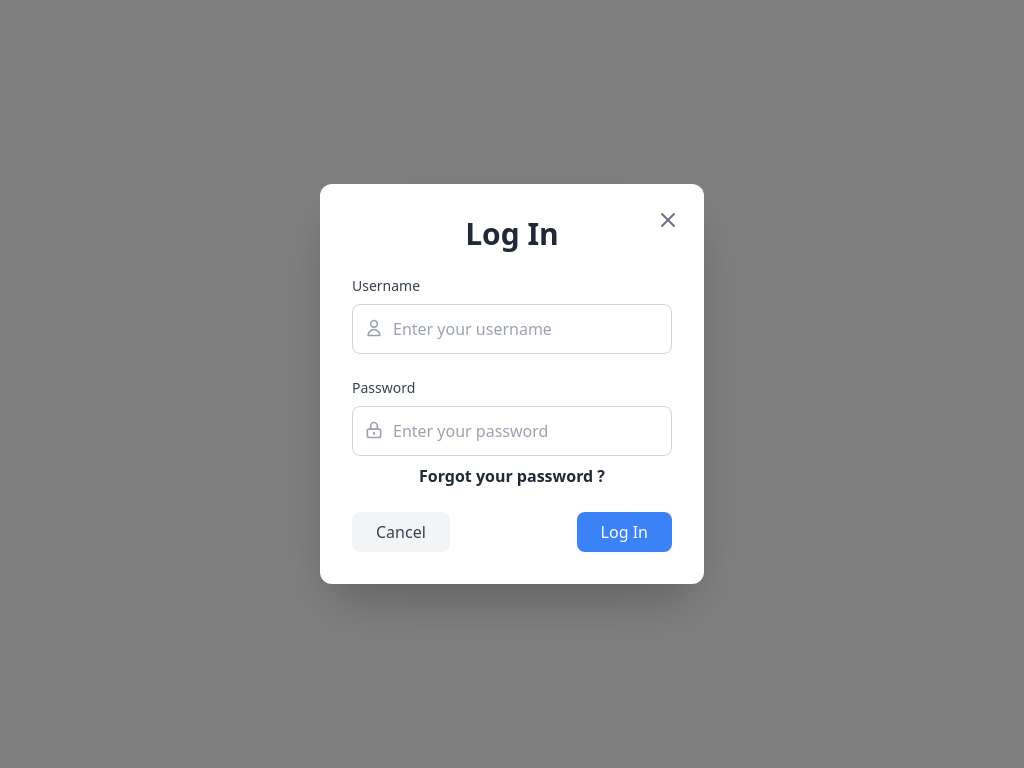
Test: LoginCard › shows error on incorrect credentials
Type "testuser" into the field labelled "Username" at (512,329), box [352, 304, 672, 354]
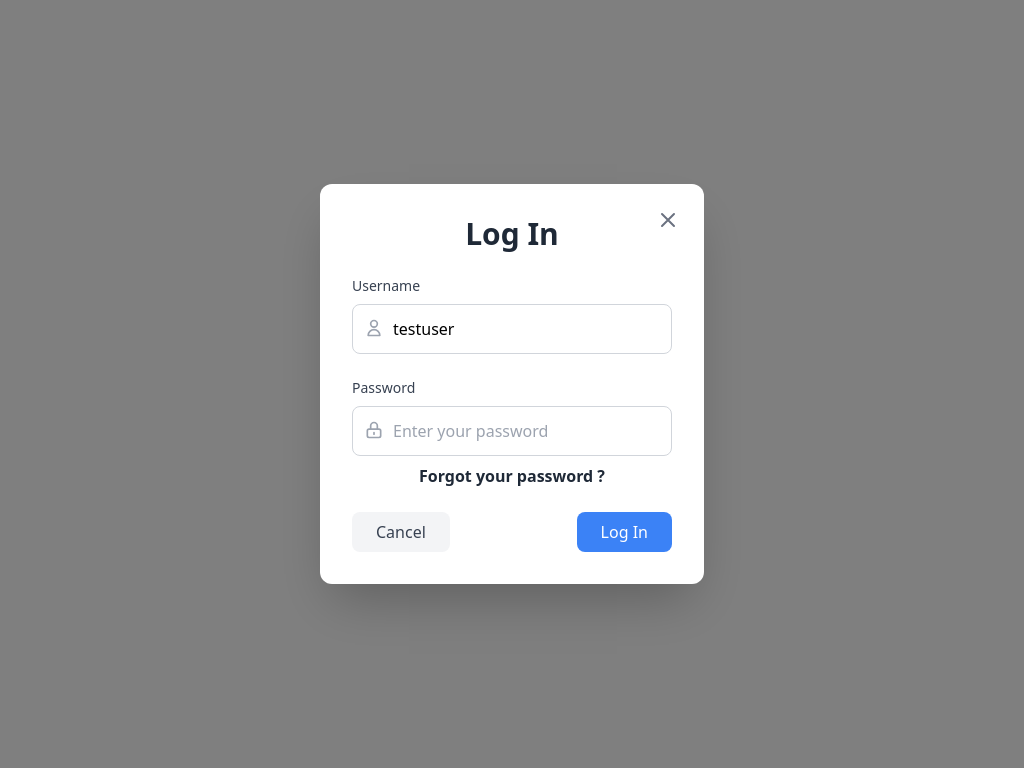
Type "wrongpassword" into the password field labelled "Password" at (512,431), box [352, 406, 672, 456]
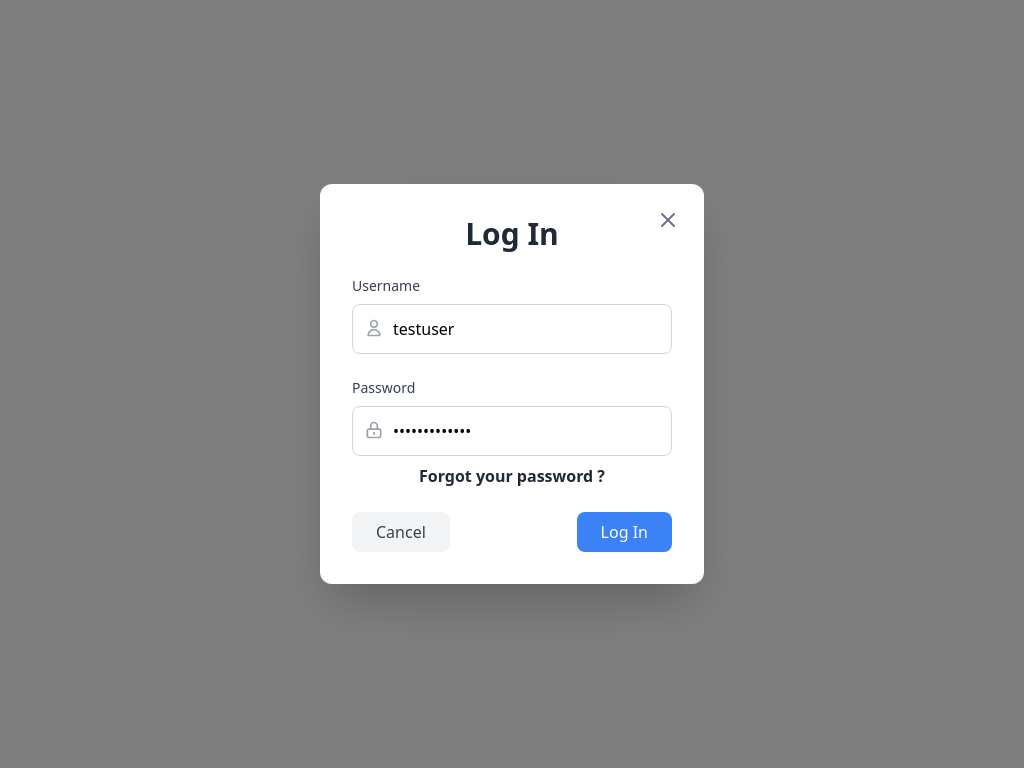
Click the button "Log In" at (624,532), box [577, 512, 672, 552]
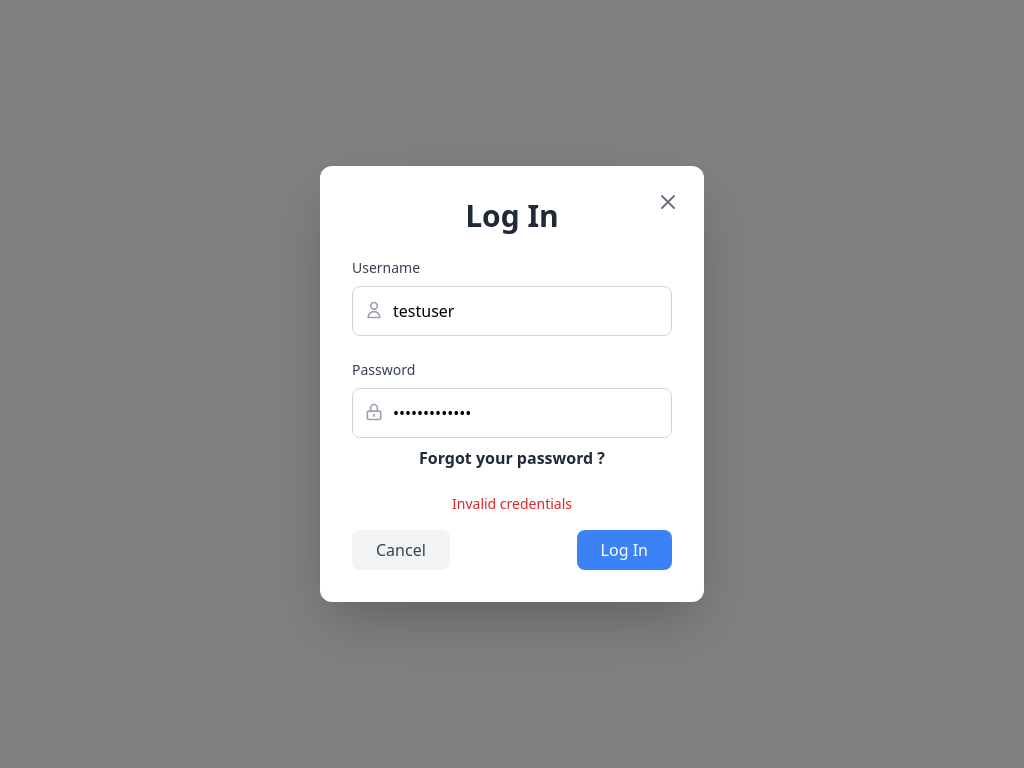
Expected: the text "Invalid credentials" is shown, [452, 494, 572, 513]
